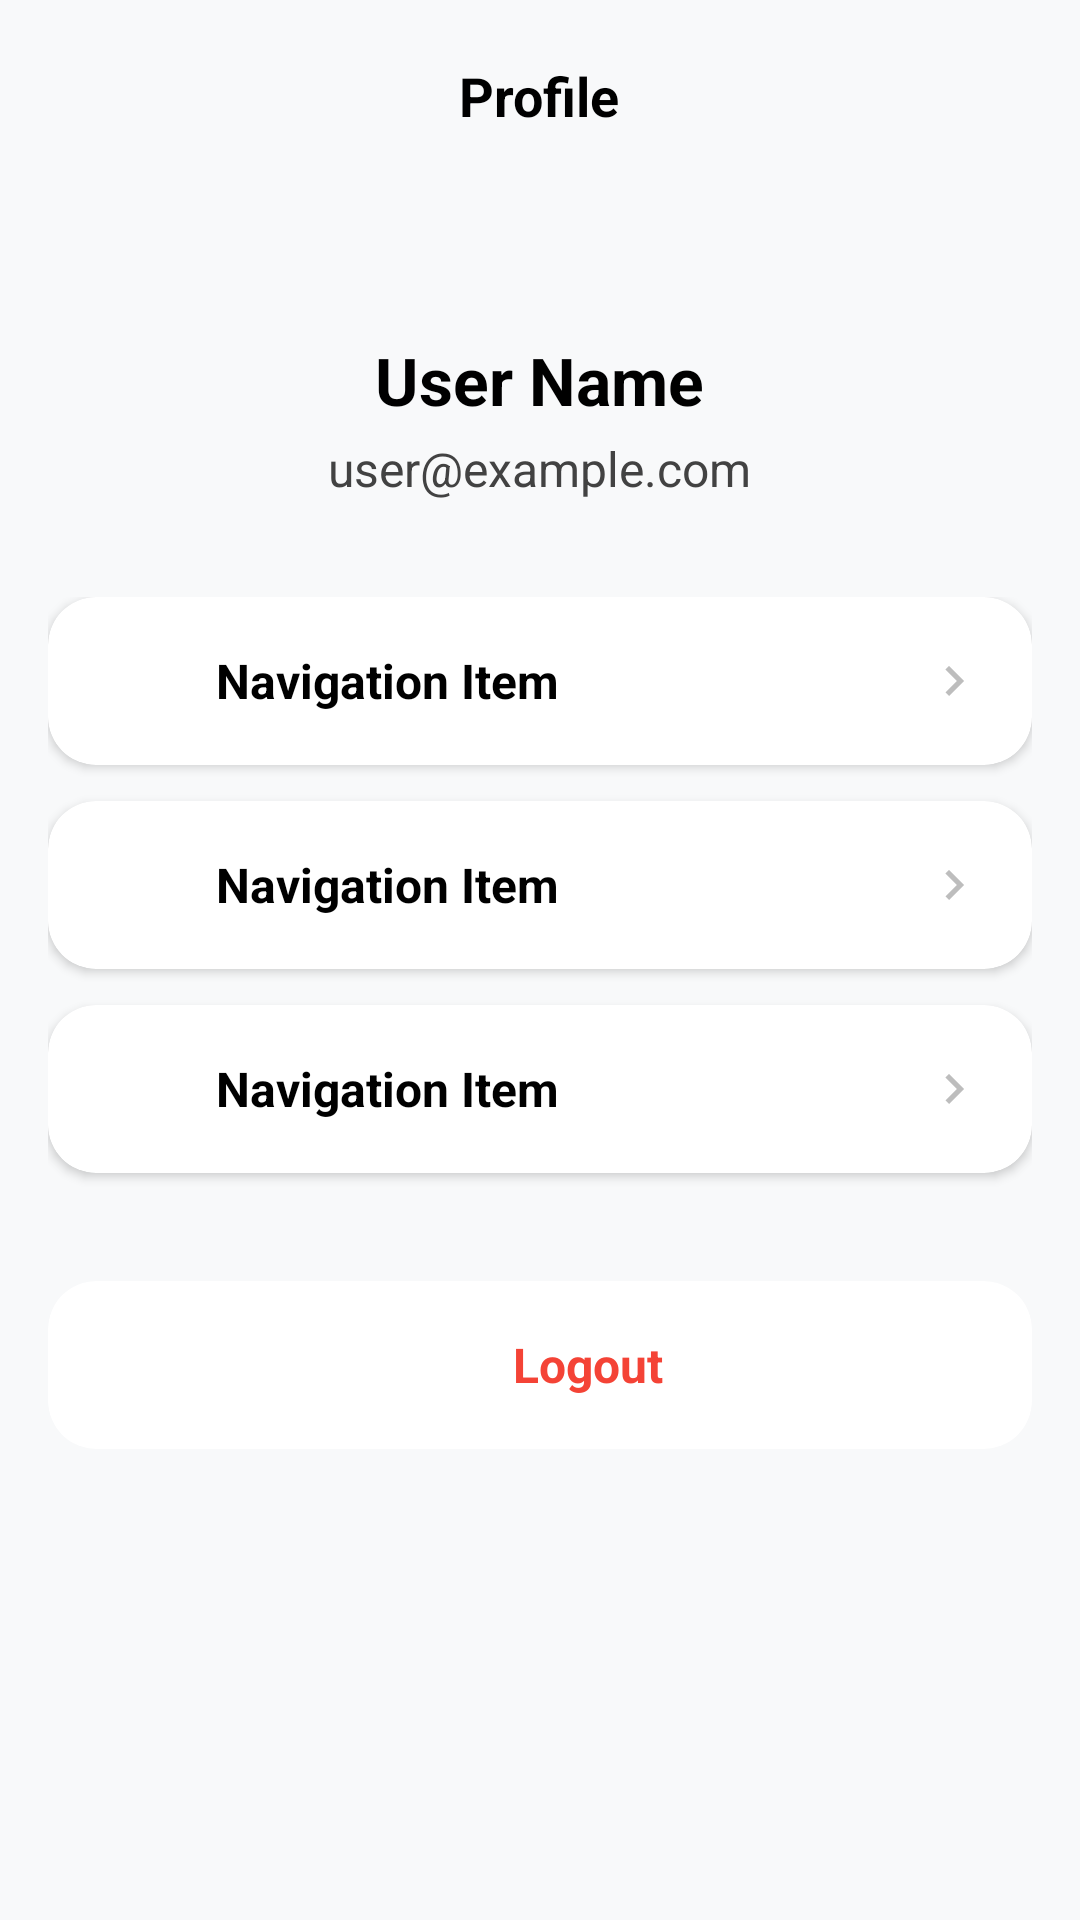

Locate icon controls on the screen. Image size 1080w x 1920h, boxes as (x1, y1, x2, y2).
chevron right: (945, 666, 964, 696), (945, 870, 964, 900), (945, 1074, 964, 1104)
